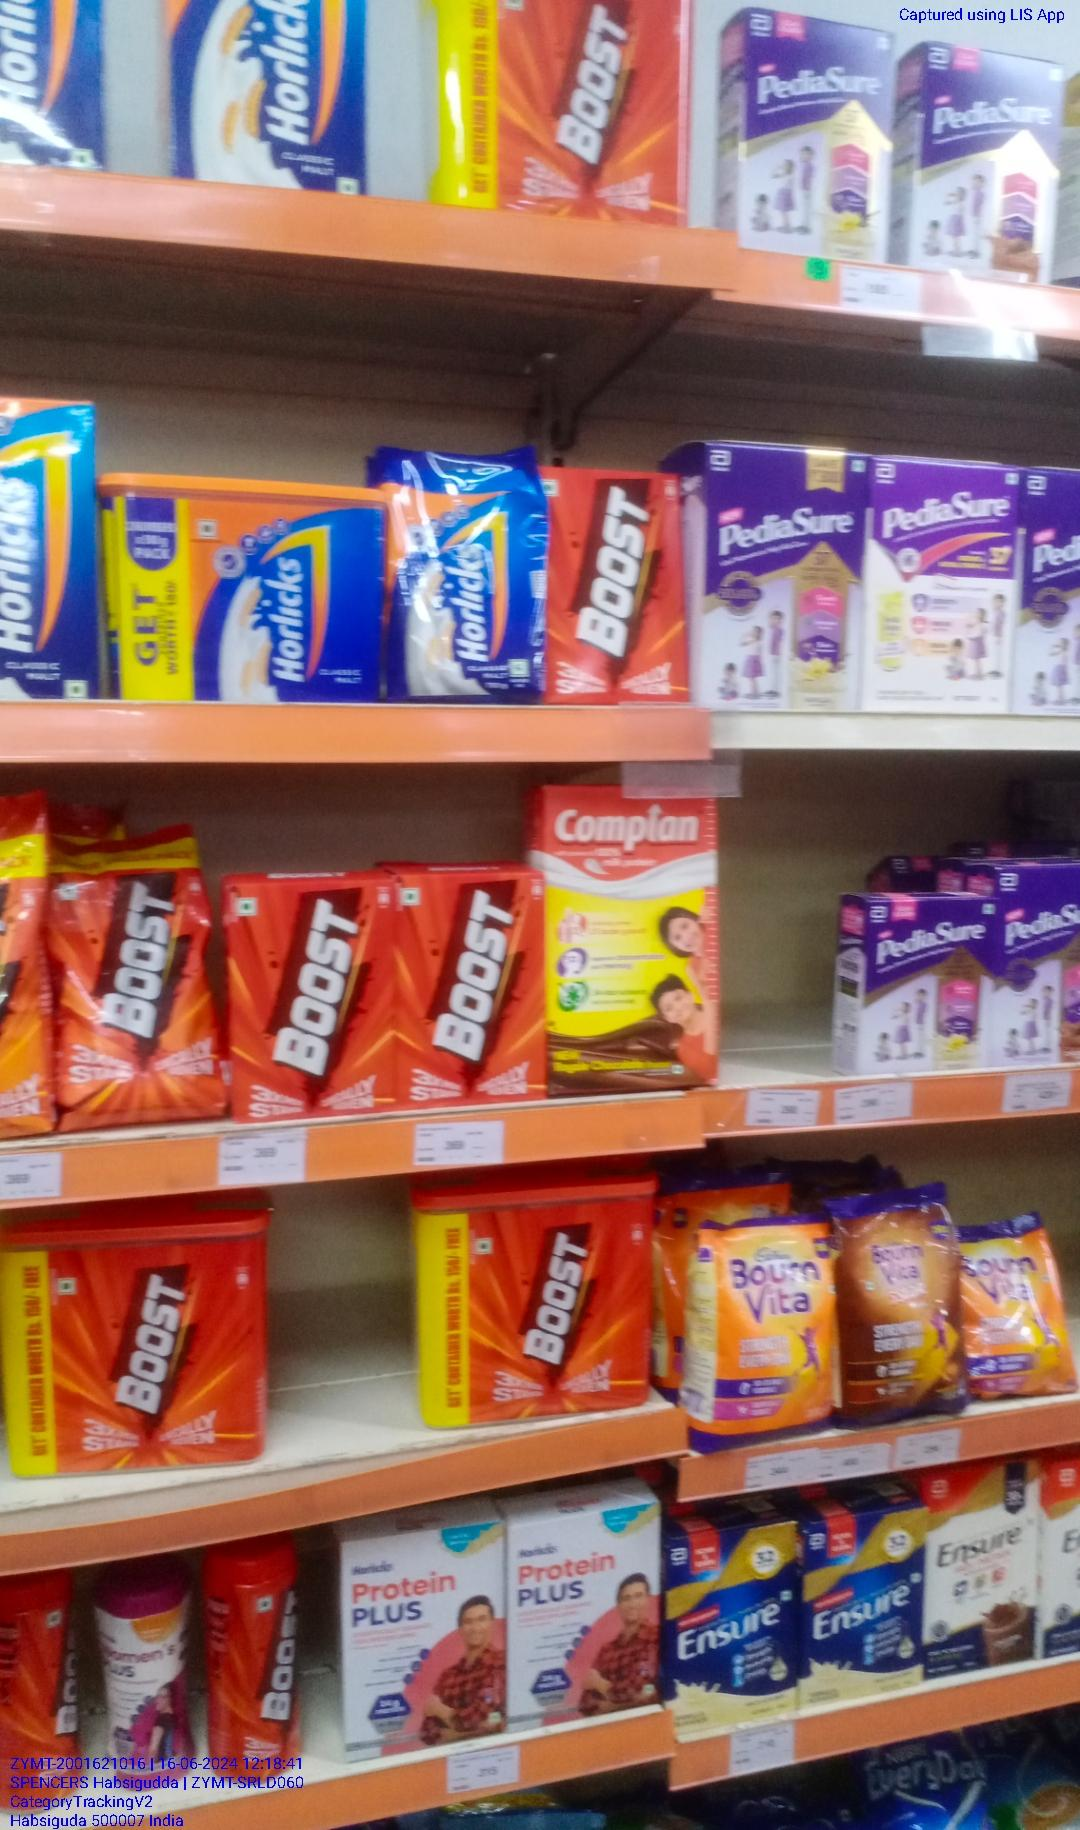BOURN_VITA_500_G_POUCH: (968, 1227, 1075, 1398)
BOURN_VITA_750_G_POUCH: (696, 1223, 836, 1442)
BOURN_VITA_FIVE_STAR_MAGIC_750_G_POUCH: (842, 1196, 963, 1419)
ENSURE_VANILLA_400_G_PACK: (667, 1537, 802, 1732), (809, 1523, 928, 1699)
HORLICK_MALT_1_KG_CONTAINER: (108, 473, 390, 700)
PEDIASURE_CHOCOLATE_500_G_PACK: (913, 44, 1058, 278)
PEDIASURE_VANILLA_500_G_PACK: (712, 442, 856, 703), (743, 5, 894, 254)
